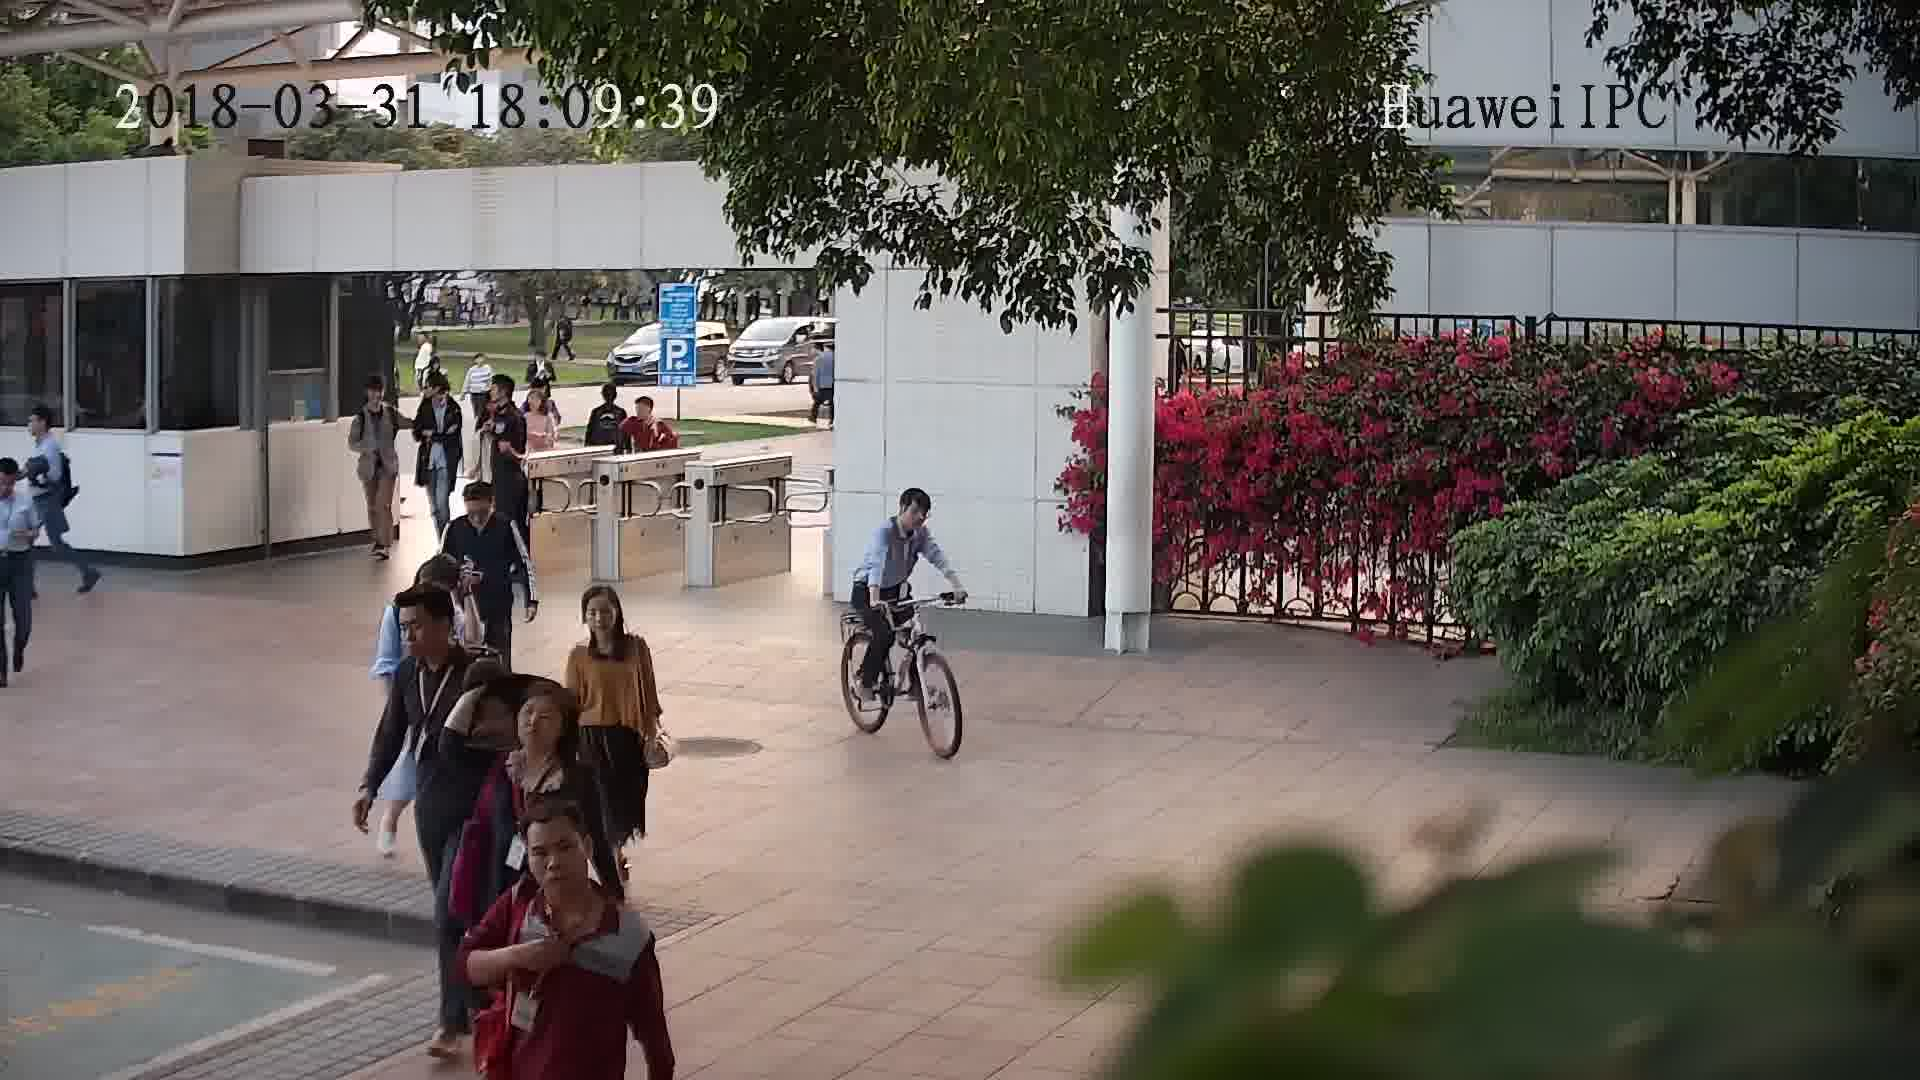face: (522, 824, 595, 897), (391, 604, 449, 662), (511, 695, 568, 752), (578, 588, 621, 640)
person: (491, 803, 643, 934), (497, 685, 596, 788), (391, 591, 476, 688), (565, 577, 653, 665), (383, 550, 475, 626), (449, 479, 517, 537), (877, 484, 934, 545), (20, 400, 72, 460), (483, 370, 526, 428), (348, 373, 397, 425), (417, 370, 470, 413), (1, 453, 37, 514), (518, 376, 558, 425), (626, 393, 674, 431), (589, 379, 629, 420), (528, 347, 560, 374)
